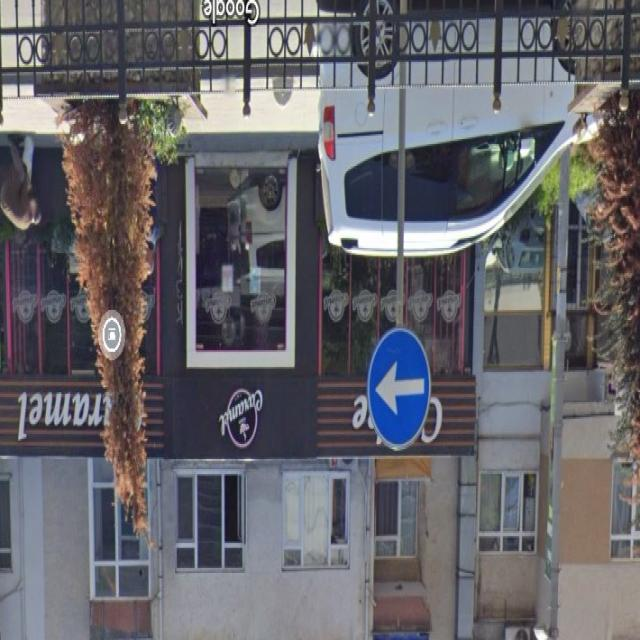Turn Left: (367, 326, 434, 463)
